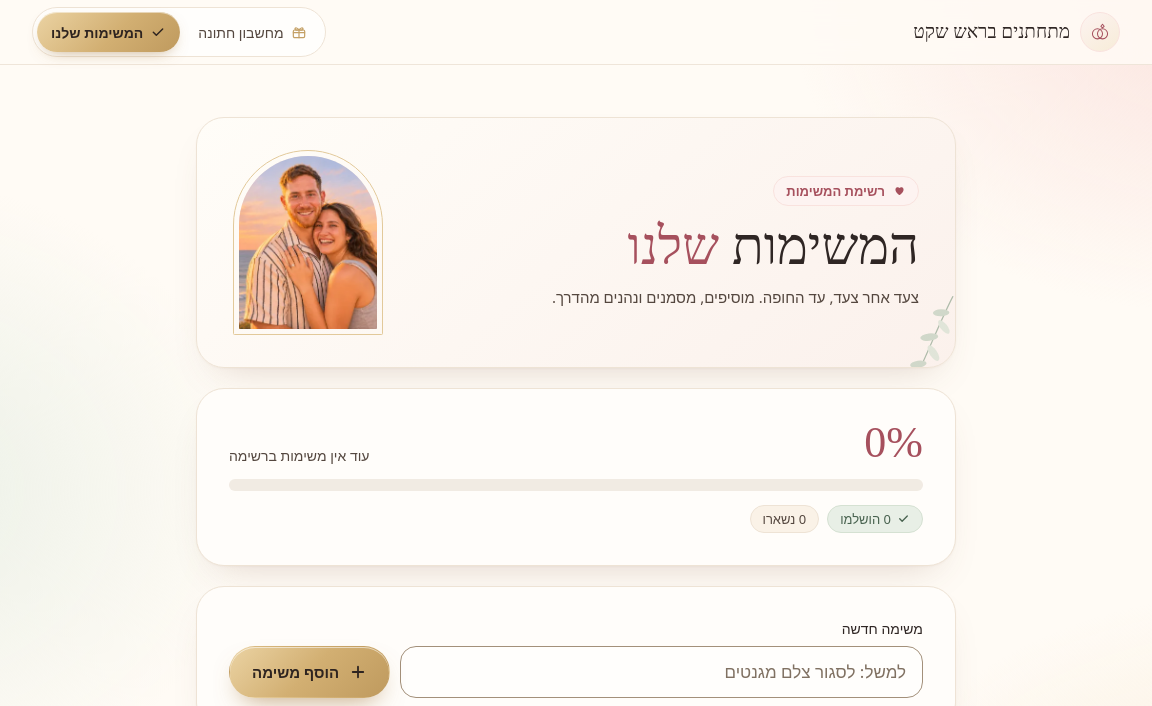
Test: Navigation › the brand link returns to the calculator
The width and height of the screenshot is (1152, 706).
Click the link with aria-label "מתחתנים בראש שקט — לדף הבית": (1017, 32) [913,12,1120,52]
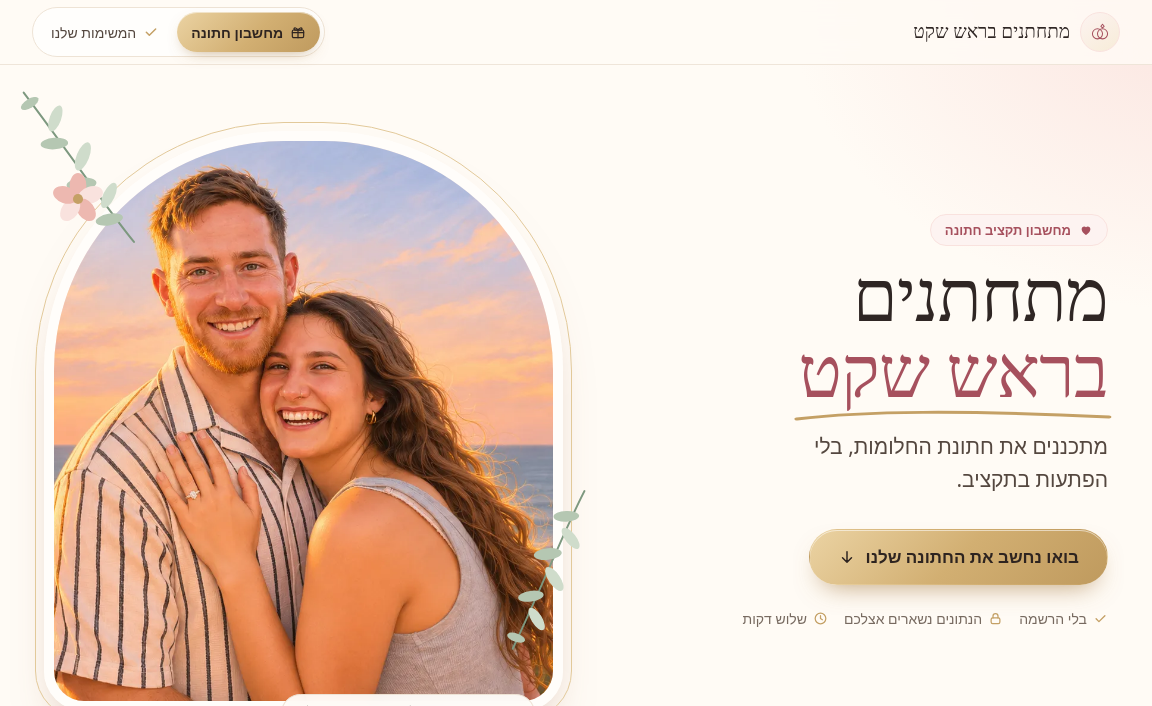
Check: the heading reads "מתחתנים בראש שקט", box [792,257,1114,424]
